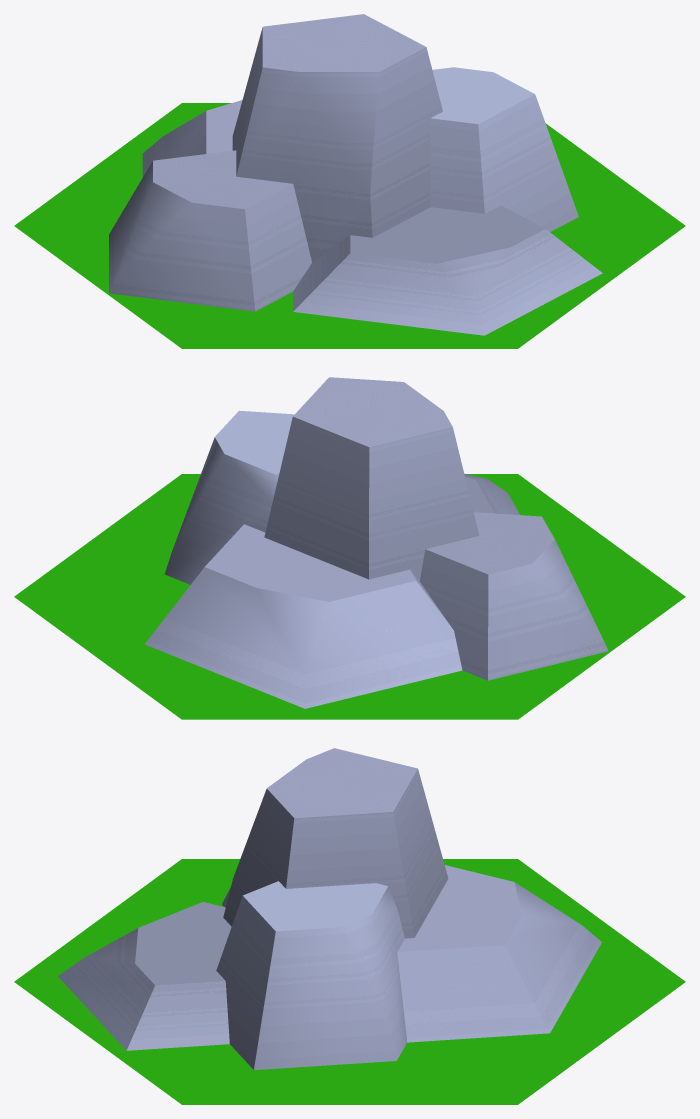
File: grass_hill.glb
3 views of the same model, one above another, from view 1: azimuth 30°, elevation 25°; view 2: azimuth 150°, elevation 25°; view 3: azimuth 270°, elevation 25° (orthographic).
Parts seen in each view (by area): view 1: grass-hill; view 2: grass-hill; view 3: grass-hill.
Boxes of the visible parts, x1,y1,x2,y2 form: grass-hill: (14, 14, 685, 348); grass-hill: (14, 377, 685, 719); grass-hill: (14, 748, 685, 1104).
Size of the model in its own units: 1 by 0.3553 by 1.15.
1 material, 1 textured.
